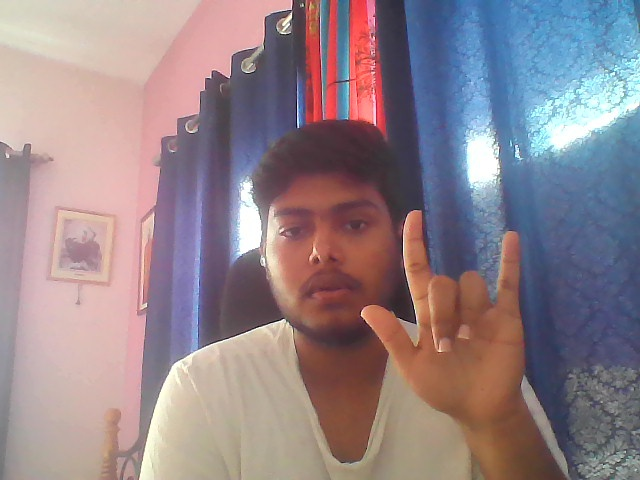I Love You: (357, 206, 543, 419)
